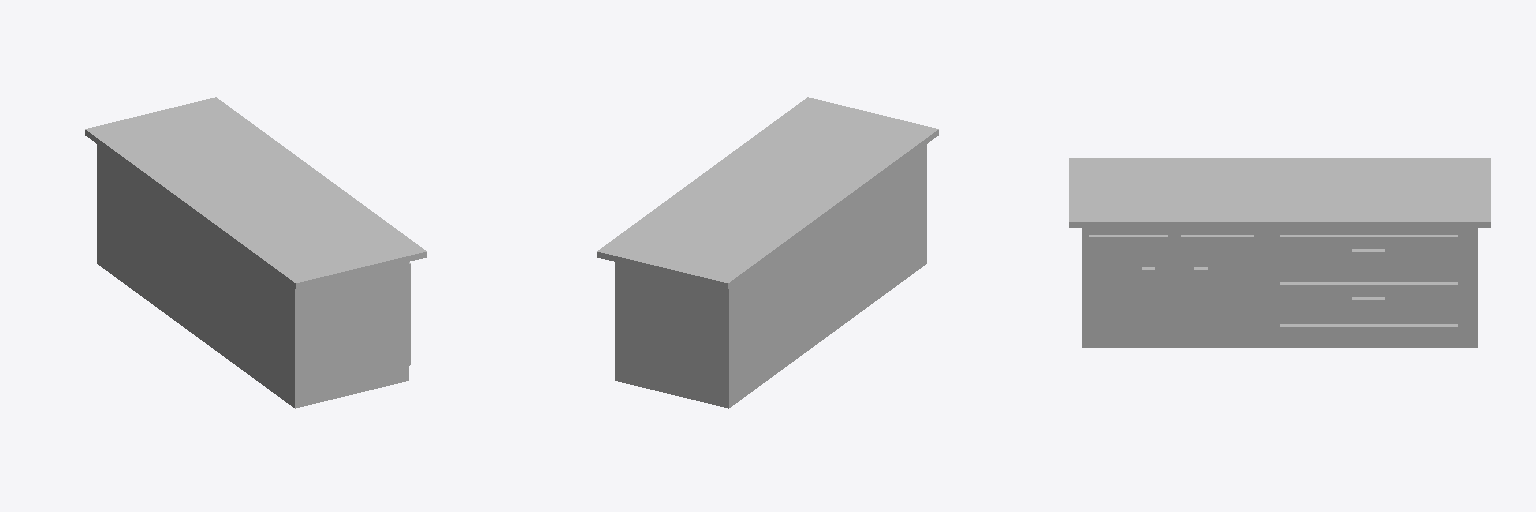
The model's file is coffee table.obj.
3 renders of one model, left to right at view 1: azimuth 30°, elevation 25°; view 2: azimuth 150°, elevation 25°; view 3: azimuth 270°, elevation 25°, orthographic.
Size of the model in its own units: 23 by 22 by 64.